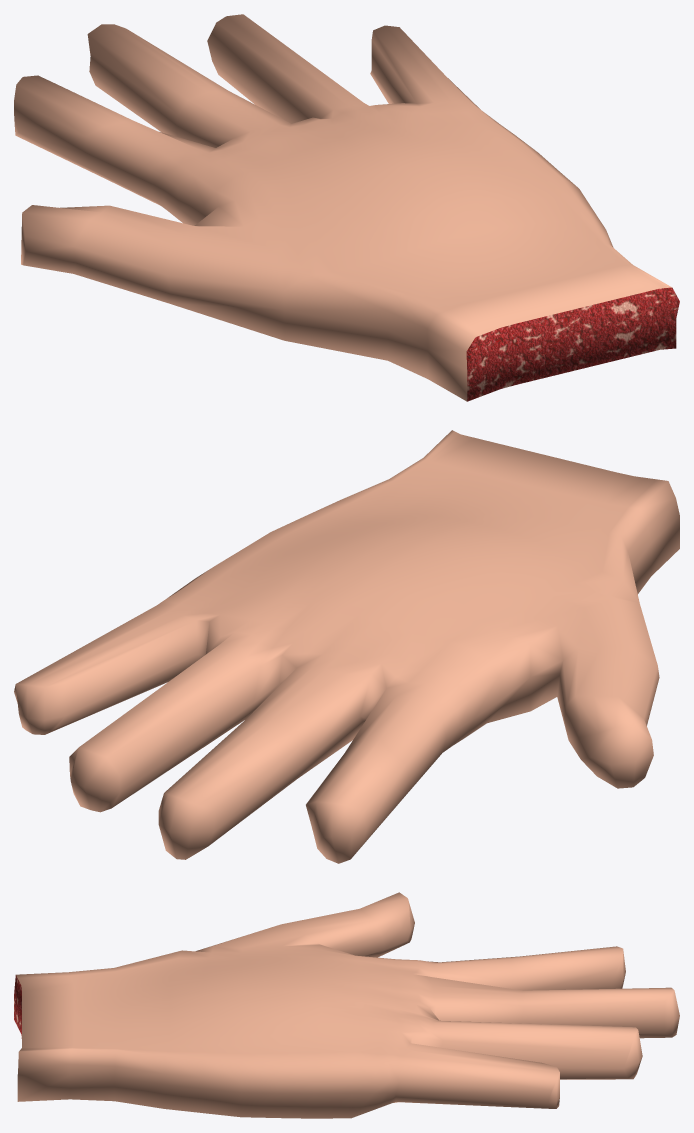
File: Hand.fbx
3 renders of one model, top to bottom at view 1: azimuth 30°, elevation 25°; view 2: azimuth 150°, elevation 25°; view 3: azimuth 270°, elevation 25°, orthographic. The views are drawn at different scales.
Visible parts, largest first — view 1: Hand; view 2: Hand; view 3: Hand.
Boxes of the visible parts, x1,y1,x2,y2 form: Hand: (14, 14, 679, 401); Hand: (14, 430, 679, 863); Hand: (14, 892, 679, 1118).
Size of the model in its own units: 310 by 52.78 by 461.
